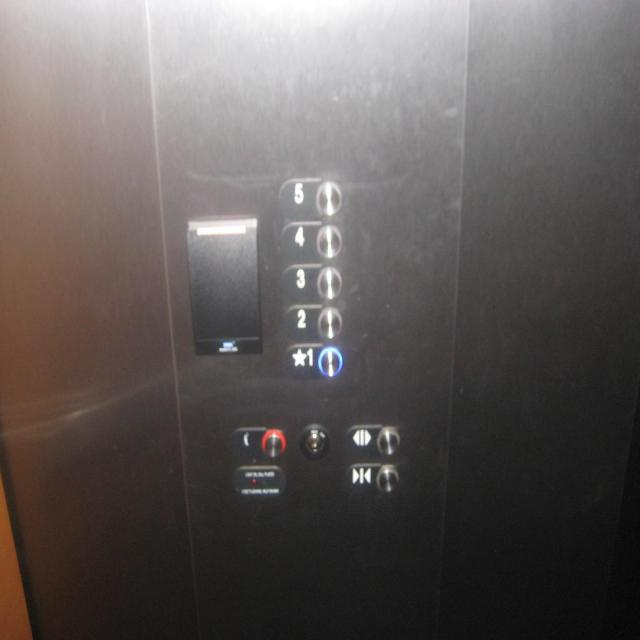2: (284, 303, 342, 342)
3: (282, 262, 342, 302)
4: (280, 220, 344, 262)
5: (279, 174, 342, 222)
call: (228, 424, 286, 460)
close: (344, 462, 400, 496)
keyhole: (298, 424, 330, 461)
open: (343, 423, 402, 456)
s1: (285, 342, 344, 379)
